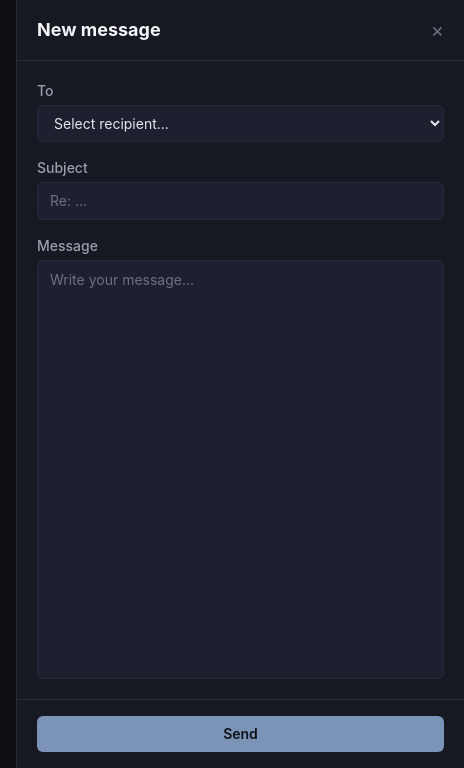
Scenario: MessageComposer › shows error when API returns an error
The image size is (464, 768).
Select "CFO" in the dropdown with test id "composer-to". click: (240, 124)
box: [37, 105, 444, 142]
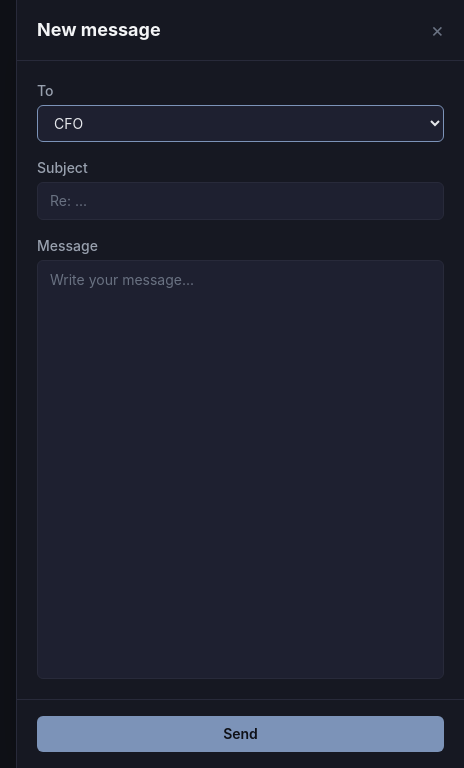
Type "Test" into the field with test id "composer-subject". click: (240, 201)
box: [37, 182, 444, 220]
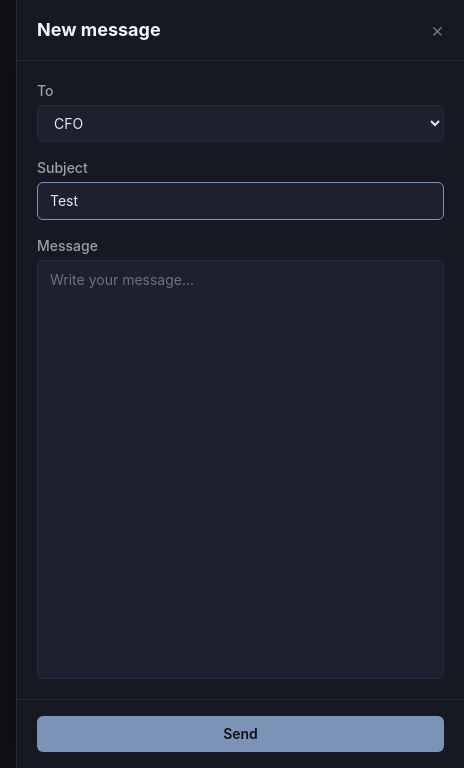
Type "Body" into the text box with test id "composer-message". click: (240, 470)
box: [37, 260, 444, 679]
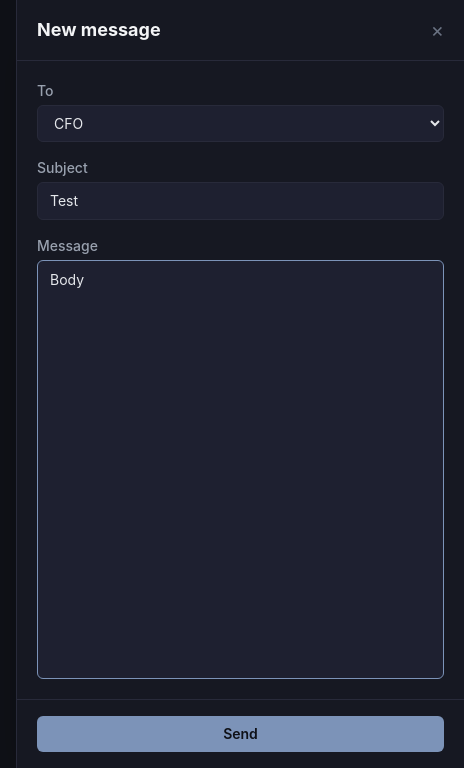
Click the button with test id "composer-send". click: (240, 734)
box: [37, 716, 444, 752]
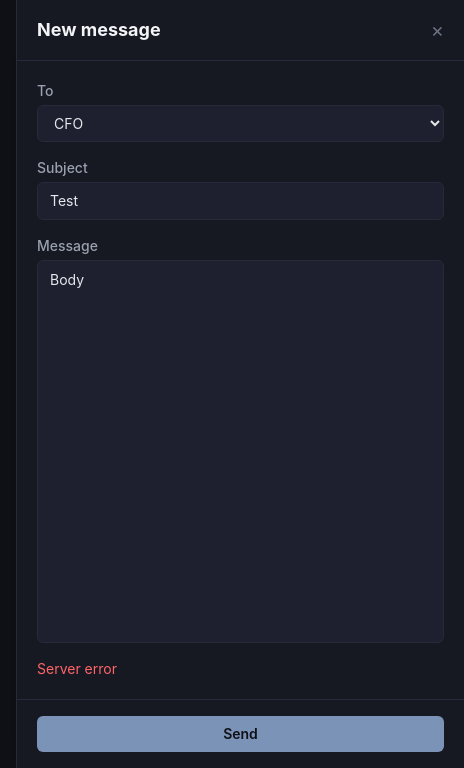
Expected: the text with test id "composer-error" reads "Server error", [37, 660, 117, 677]
